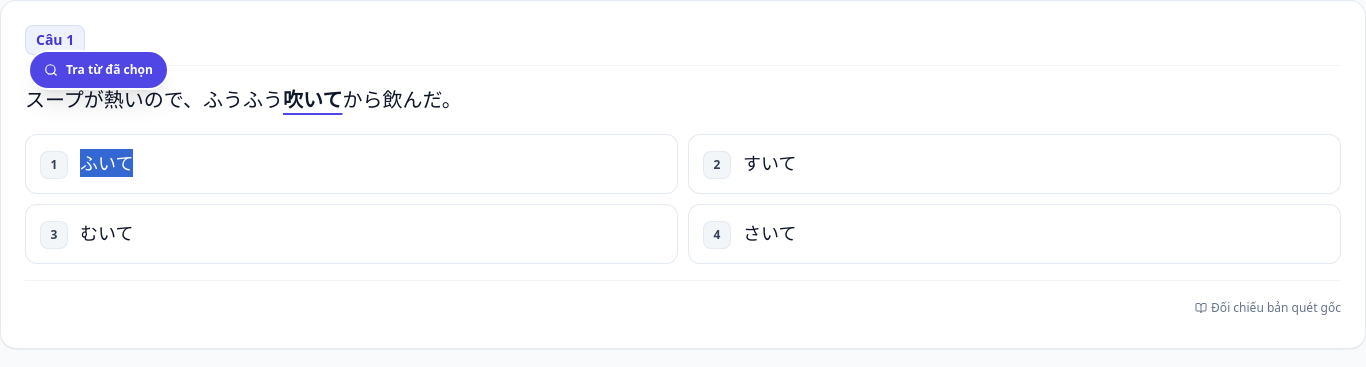
offers lookup for selected option text without changing the answer
Later steps or results of the test are not shown.
Click the element showing "ふいて": coordinates (107, 163) [80,151,134,175]
Click the button "Tra từ đã chọn": coordinates (98, 70) [30,52,167,88]
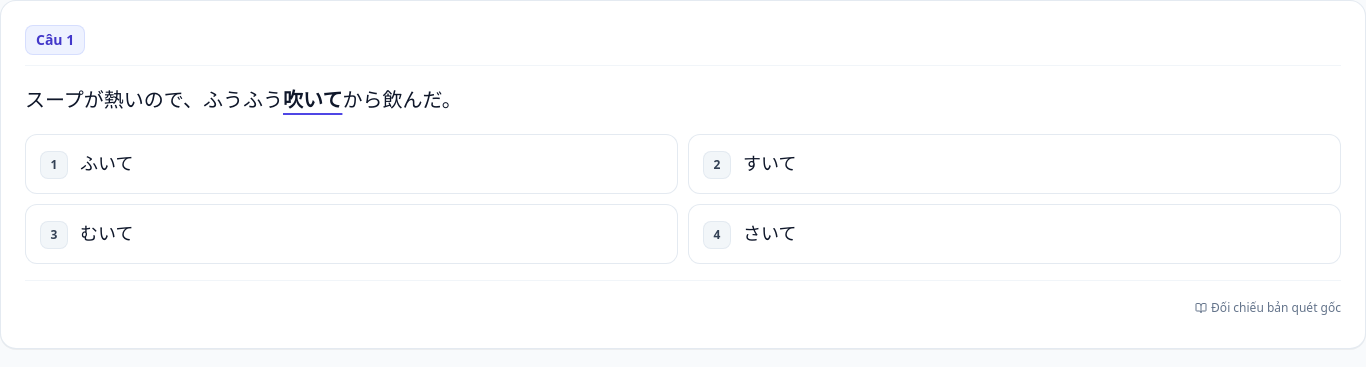
expect the button "Tra từ đã chọn" is gone: met
